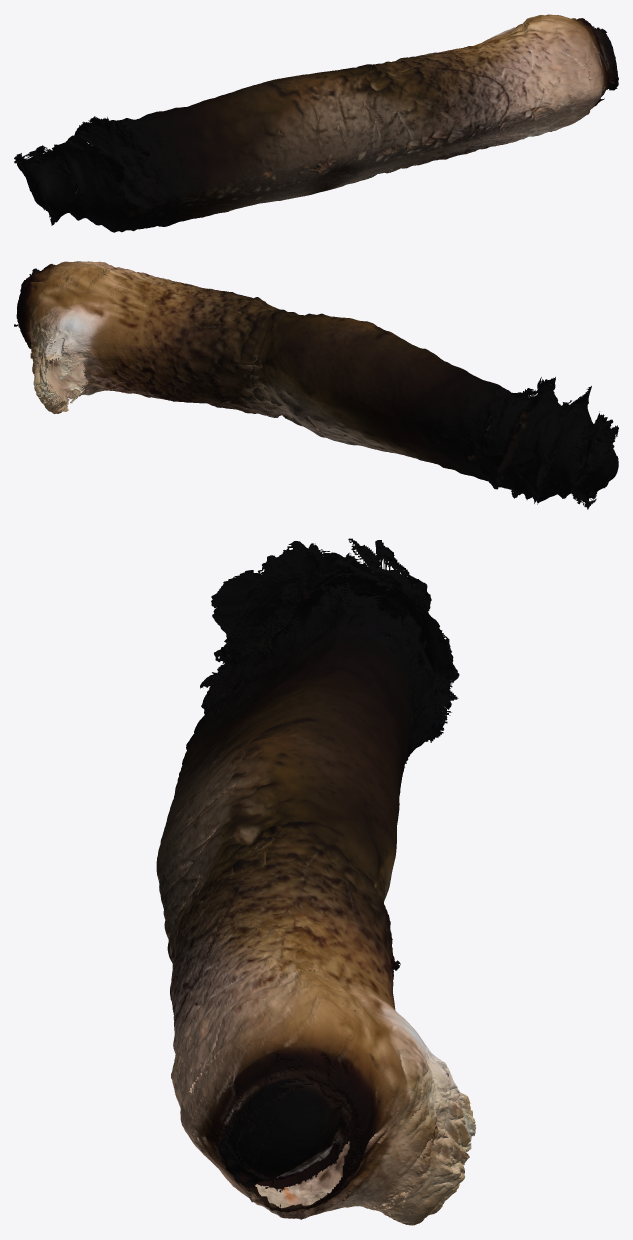
The model's file is burrow-shelter-interior.glb.
The picture shows the model from 3 angles, top to bottom: view 1: azimuth 30°, elevation 25°; view 2: azimuth 150°, elevation 25°; view 3: azimuth 270°, elevation 25°; orthographic projection. The views are drawn at different scales.
Visible parts, largest first — view 1: 临时洞; view 2: 临时洞; view 3: 临时洞.
Part boxes in pixels (<box>): 临时洞: <box>14,14,618,232</box>; 临时洞: <box>14,261,618,509</box>; 临时洞: <box>156,538,476,1225</box>.
Size of the model in its own units: 38.58 by 7.88 by 9.33.
